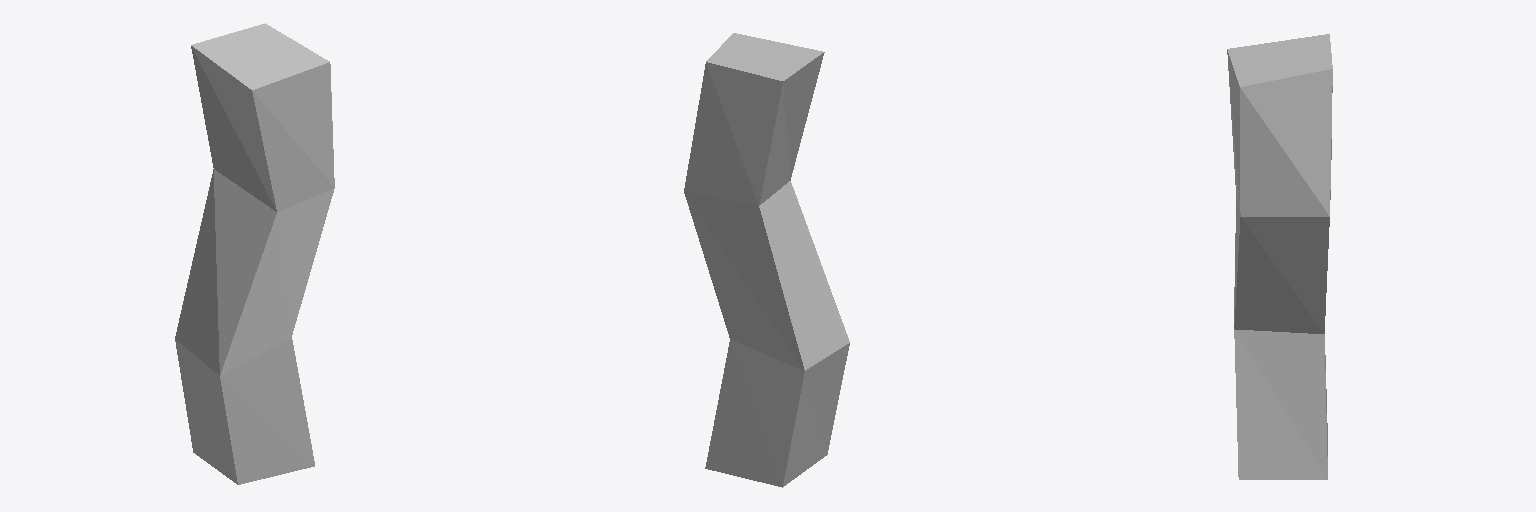
Rendered from Stem1.obj.
3 renders of one model, left to right at view 1: azimuth 30°, elevation 25°; view 2: azimuth 150°, elevation 25°; view 3: azimuth 270°, elevation 25°, orthographic.
Visible parts, largest first — view 1: Stem1; view 2: Stem1; view 3: Stem1.
Part boxes in pixels (x1,y1,x2,y2): Stem1: (175, 23, 334, 484); Stem1: (684, 33, 849, 487); Stem1: (1227, 34, 1332, 479).
Bounding box in the file's own units: 0.0762 × 0.2522 × 0.059.